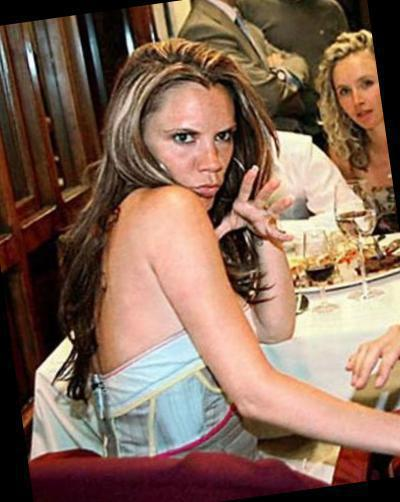Drunk: (153, 77, 242, 214)
